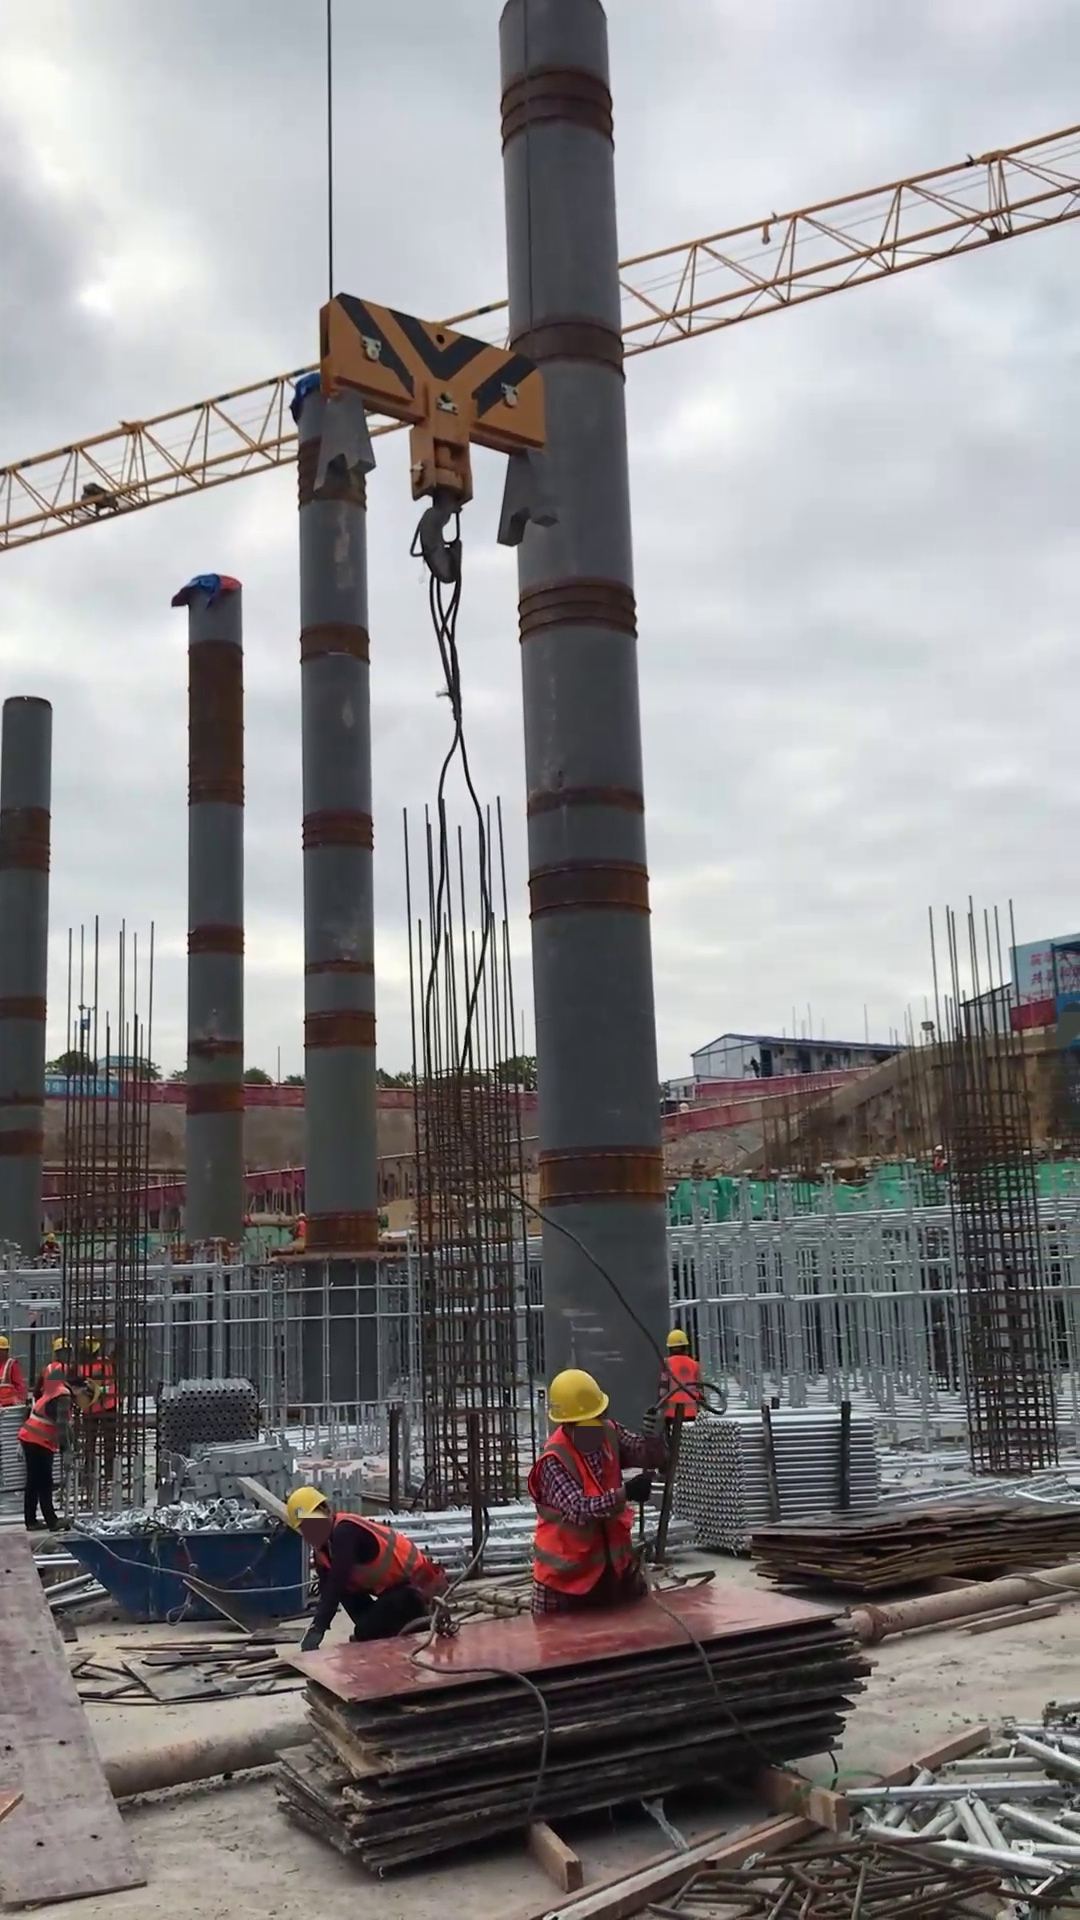board: (271, 1582, 875, 1874), (748, 1498, 1080, 1591)
helmet: (545, 1365, 611, 1425), (285, 1484, 330, 1531), (80, 1377, 99, 1406), (664, 1327, 687, 1349), (80, 1332, 101, 1356), (50, 1336, 73, 1353), (1, 1335, 13, 1350), (933, 1141, 947, 1154), (46, 1231, 56, 1243), (296, 1210, 305, 1220)
hook: (308, 289, 562, 586)
hopper: (50, 1528, 314, 1627)
person: (523, 1365, 663, 1609), (285, 1483, 451, 1652), (16, 1375, 100, 1533), (75, 1329, 122, 1486), (657, 1326, 706, 1425), (32, 1329, 76, 1398), (1, 1332, 30, 1408), (288, 1209, 307, 1243)
scaffold: (671, 1402, 885, 1551), (368, 1499, 539, 1585), (155, 1375, 260, 1457)
slogan: (1027, 937, 1080, 989), (43, 1075, 123, 1096)
vest: (527, 1418, 637, 1596), (332, 1509, 430, 1597), (16, 1380, 74, 1453), (75, 1354, 118, 1415), (664, 1353, 700, 1419), (41, 1358, 71, 1397), (1, 1354, 21, 1404), (295, 1218, 306, 1239)
